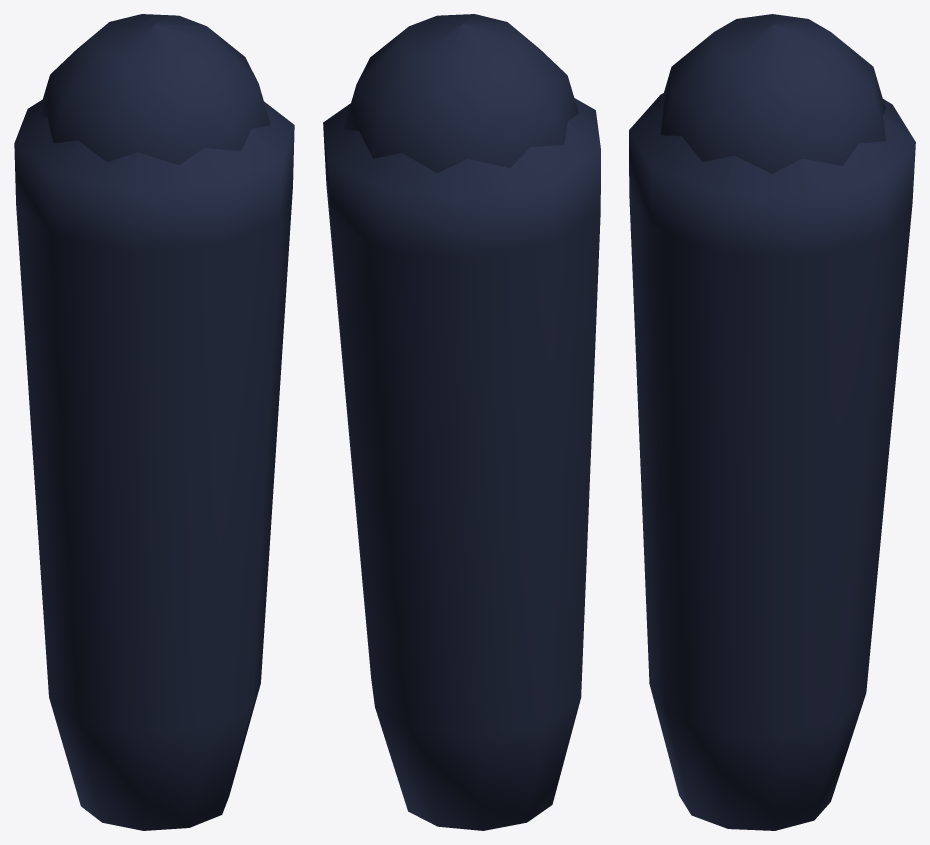
The model's file is thigh_R.obj.
3 renders of one model, left to right at view 1: azimuth 30°, elevation 25°; view 2: azimuth 150°, elevation 25°; view 3: azimuth 270°, elevation 25°, orthographic.
Visible parts, largest first — view 1: thigh_R; view 2: thigh_R; view 3: thigh_R.
Boxes of the visible parts, bbox=[...] form: thigh_R: bbox=[14, 14, 294, 830]; thigh_R: bbox=[323, 14, 600, 830]; thigh_R: bbox=[629, 14, 915, 830].
Size of the model in its own units: 0.1806 by 0.5734 by 0.187.
